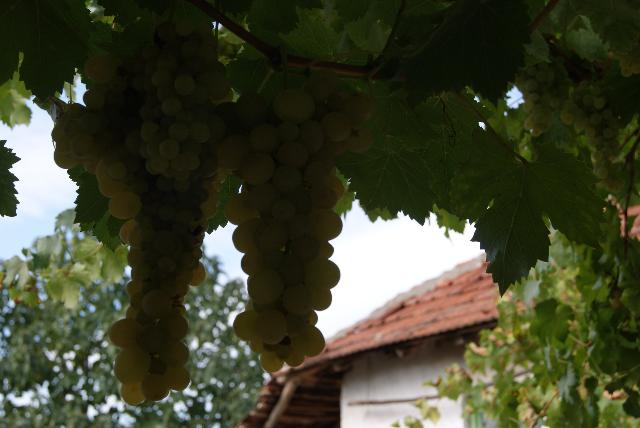grapes: (52, 19, 232, 405), (215, 70, 375, 372)
